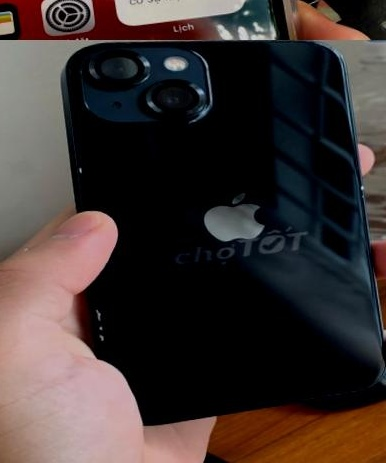physical_damage: (80, 294, 130, 349), (64, 158, 102, 184), (347, 175, 372, 200)
